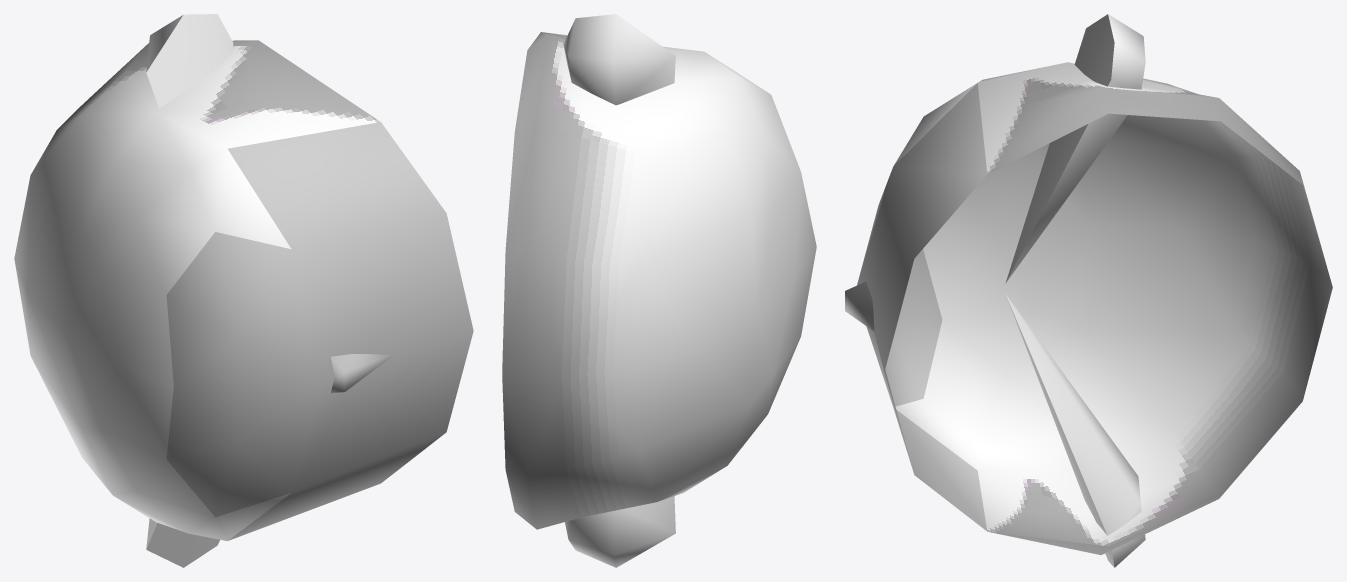
File: boy10b.dae
3 views of the same model, side by side, from view 1: azimuth 30°, elevation 25°; view 2: azimuth 150°, elevation 25°; view 3: azimuth 270°, elevation 25° (orthographic).
Parts seen in each view (by area): view 1: vsn_mesh_0_, vsn_mesh_1_, vsn_mesh_2_; view 2: vsn_mesh_0_; view 3: vsn_mesh_0_, vsn_mesh_1_, vsn_mesh_2_.
Part boxes in pixels (x1,y1,x2,y2): vsn_mesh_0_: [14, 14, 380, 567]; vsn_mesh_1_: [227, 122, 473, 540]; vsn_mesh_2_: [166, 232, 321, 517]; vsn_mesh_0_: [502, 14, 816, 567]; vsn_mesh_0_: [894, 14, 1332, 567]; vsn_mesh_1_: [845, 83, 987, 531]; vsn_mesh_2_: [857, 169, 942, 406].
Bounding box in the file's own units: 15.5 × 26.71 × 21.59.
